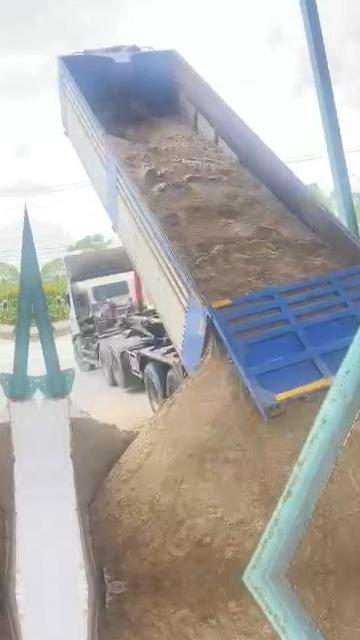sand: (91, 355, 321, 586), (111, 118, 349, 300), (290, 396, 360, 574), (72, 414, 135, 506)
